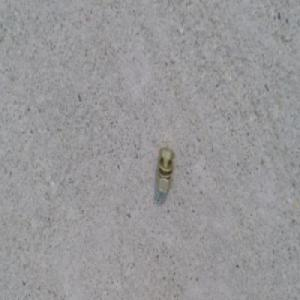BoltNutSet: (155, 149, 173, 196)
